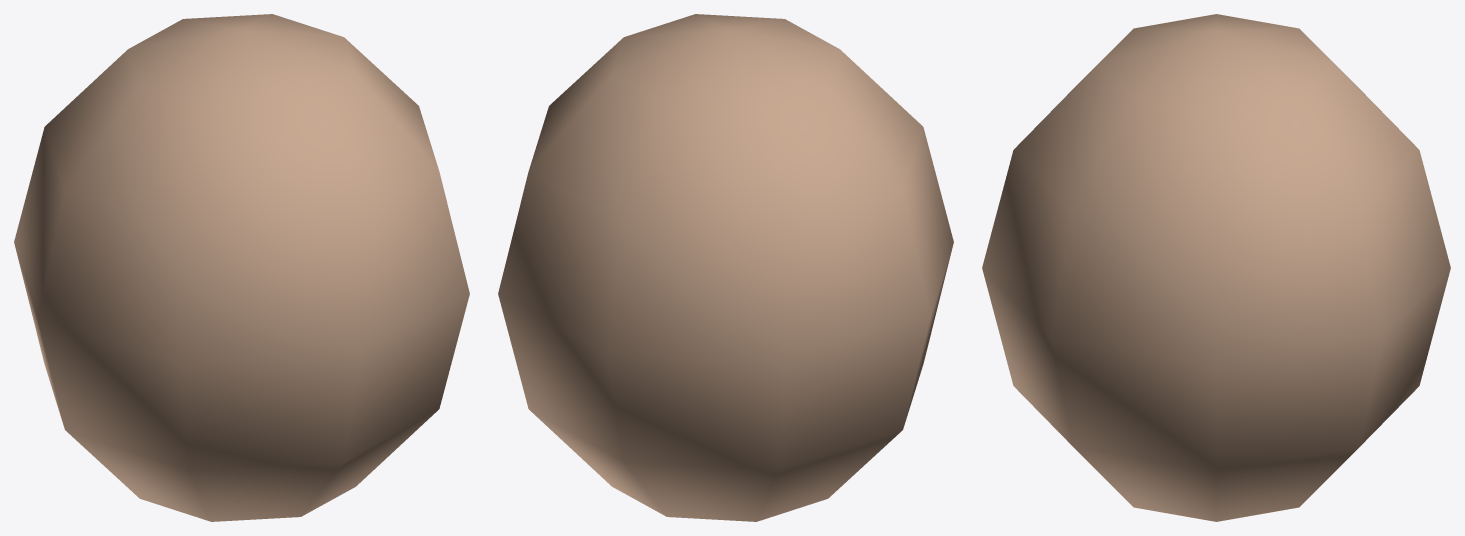
File: qing.glb
The picture shows the model from 3 angles, left to right: view 1: azimuth 30°, elevation 25°; view 2: azimuth 150°, elevation 25°; view 3: azimuth 270°, elevation 25°; orthographic projection.
Parts seen in each view (by area): view 1: 青青; view 2: 青青; view 3: 青青.
Part boxes in pixels (box(x1,y1,x2,y2)): 青青: box(14, 14, 469, 521); 青青: box(498, 14, 953, 521); 青青: box(982, 14, 1450, 521).
Bounding box in the file's own units: 1.44 × 1.6 × 1.44.
Materials: 1 (1 with a texture image).
